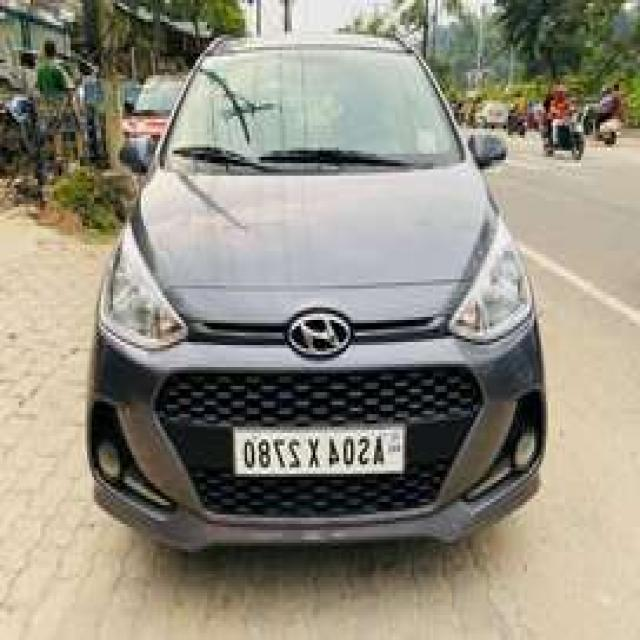license_plate: (230, 425, 410, 480)
